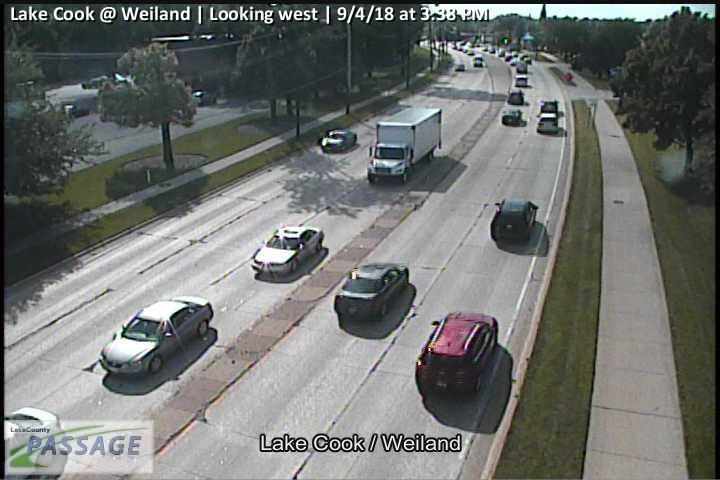SUV: (417, 312, 498, 396), (491, 199, 537, 241), (537, 112, 558, 133), (502, 108, 521, 124), (509, 86, 523, 105), (539, 100, 557, 114), (515, 74, 527, 87), (516, 62, 528, 73), (475, 54, 482, 66)
Sedan: (101, 295, 213, 372), (334, 263, 409, 319), (251, 225, 324, 272), (321, 129, 357, 153), (456, 63, 464, 71)
Truck: (368, 107, 442, 183)
